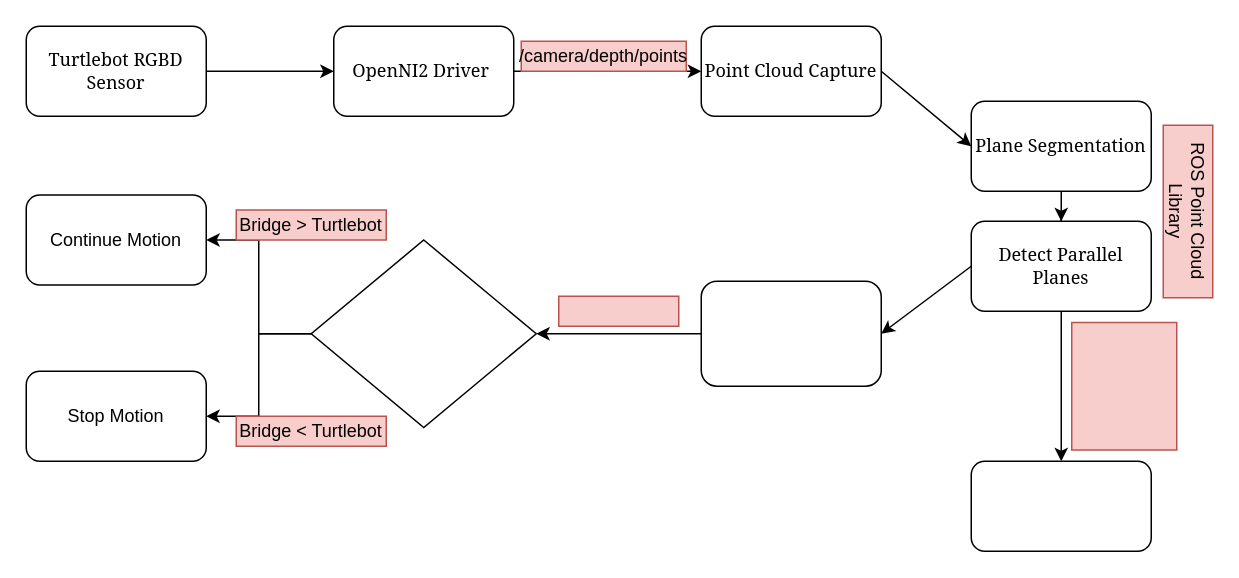
Some shapes in this 1239 by 578 pixel diagram are drawn without their labels. Each missing label, with the centre of its shape:
"/bridgeheight" belongs at point 618,310.
"Compare Bridge and Turtlebot height" belongs at point 423,333.
"Continue Turtlebot Motion" belongs at point 1060,505.
"No Parallel Planes Detected" belongs at point 1123,385.
"Separate Dissimilar Planes and Estimate Distance" belongs at point 790,333.
